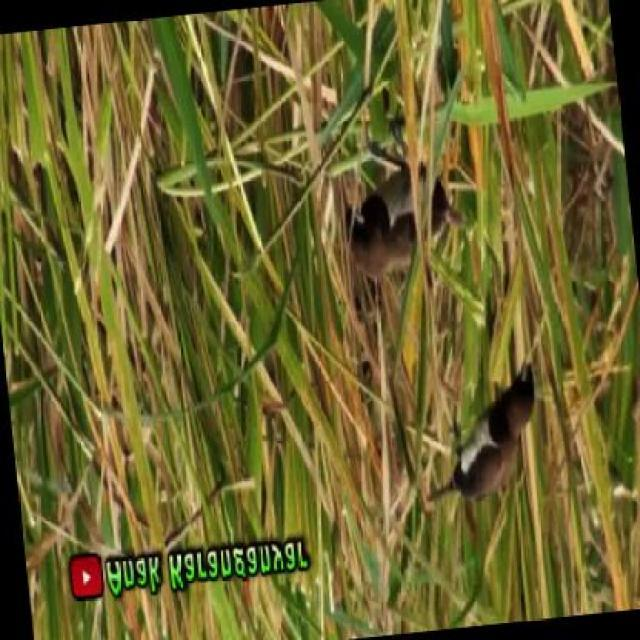Bird: (413, 349, 578, 524), (338, 146, 464, 335)
